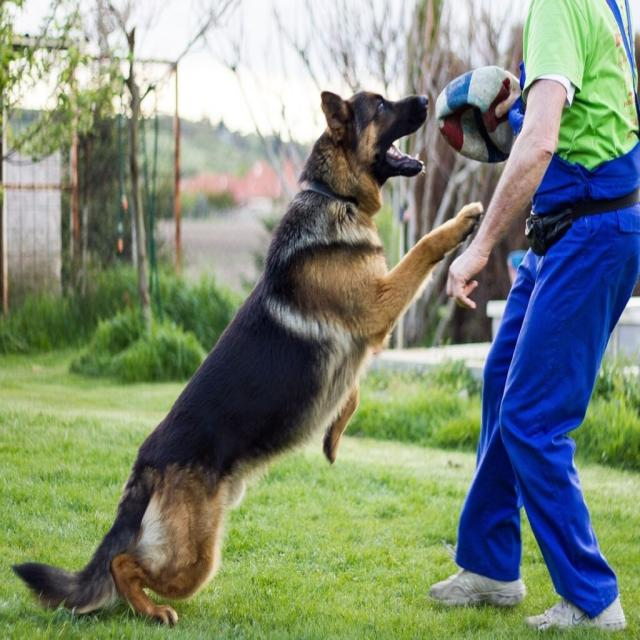GERMAN_SHEPHERD: (24, 60, 488, 632)
